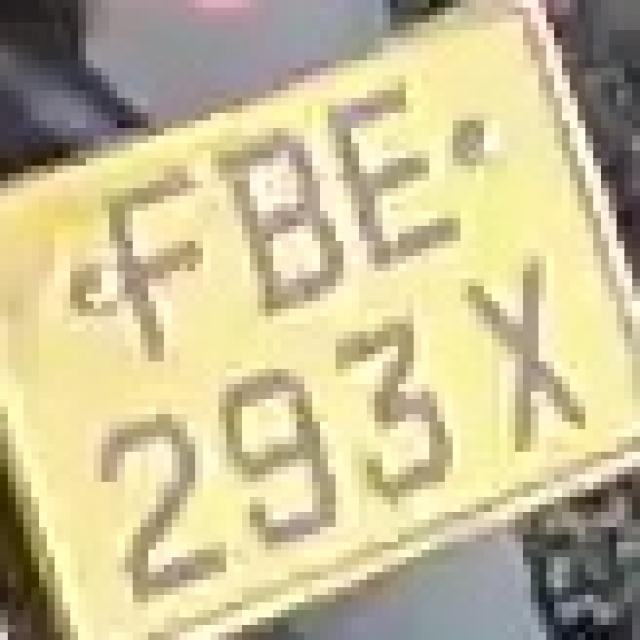2: (86, 392, 242, 618)
3: (304, 316, 468, 527)
9: (203, 362, 351, 572)
B: (203, 98, 343, 339)
E: (312, 60, 468, 271)
F: (86, 143, 218, 399)
X: (453, 218, 593, 474)
